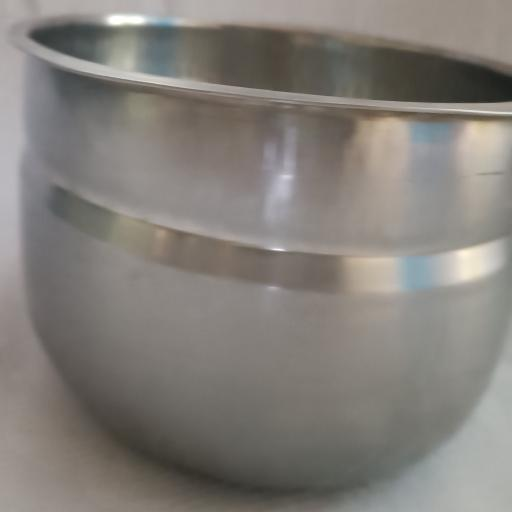vessel: (12, 15, 512, 488)
